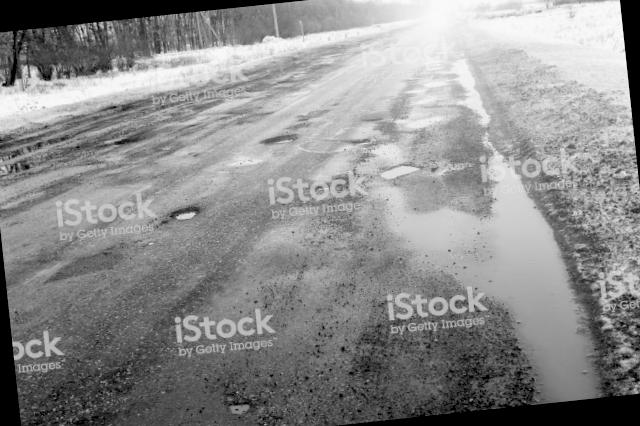Pothole: (376, 121, 611, 418), (156, 198, 220, 238), (368, 145, 427, 186), (250, 124, 308, 158), (356, 108, 396, 133)
